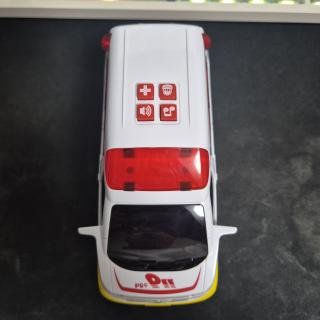Ambulance: (79, 24, 237, 306)
